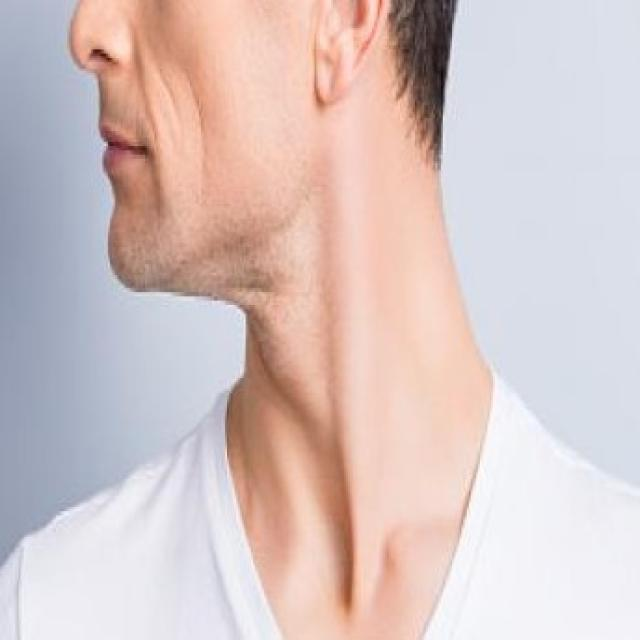Healthy: (228, 179, 487, 462)
